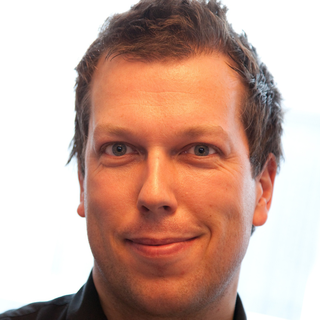eye: (176, 140, 225, 164), (97, 139, 144, 163)
